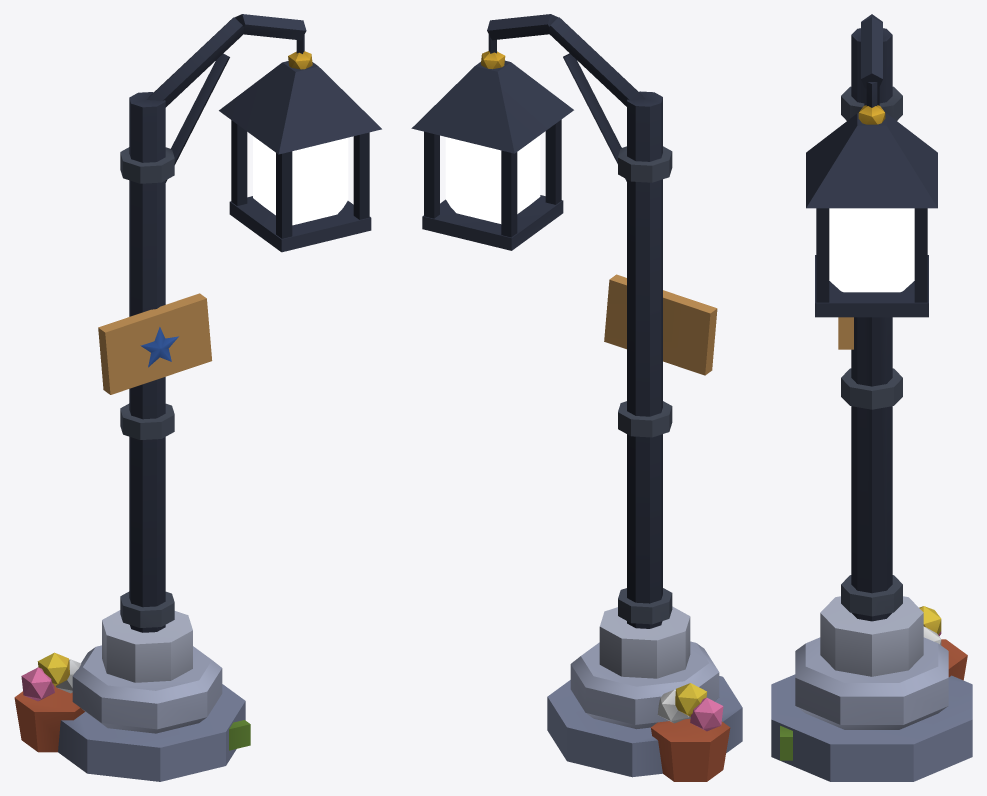
Rendered from b_laterne.glb.
3 renders of one model, left to right at view 1: azimuth 30°, elevation 25°; view 2: azimuth 150°, elevation 25°; view 3: azimuth 270°, elevation 25°, orthographic. The views are drawn at different scales.
Visible parts, largest first — view 1: body, lamp_glow; view 2: body, lamp_glow; view 3: body, lamp_glow.
Part boxes in pixels (x1,y1,x2,y2): body: (14, 14, 381, 781); lamp_glow: (253, 136, 348, 225); body: (411, 14, 742, 781); lamp_glow: (445, 135, 540, 223); body: (771, 14, 972, 781); lamp_glow: (829, 208, 914, 292).
Size of the model in its own units: 1.5 by 3.29 by 0.7761.
